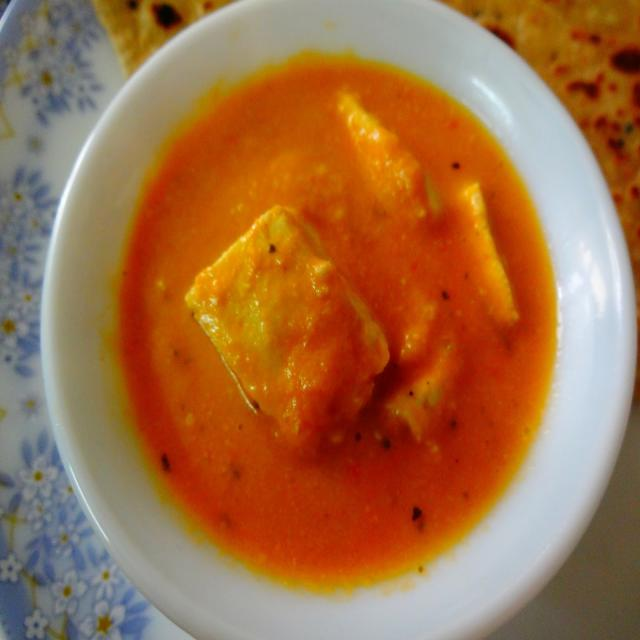ShahiPaneer: (120, 43, 551, 590)
